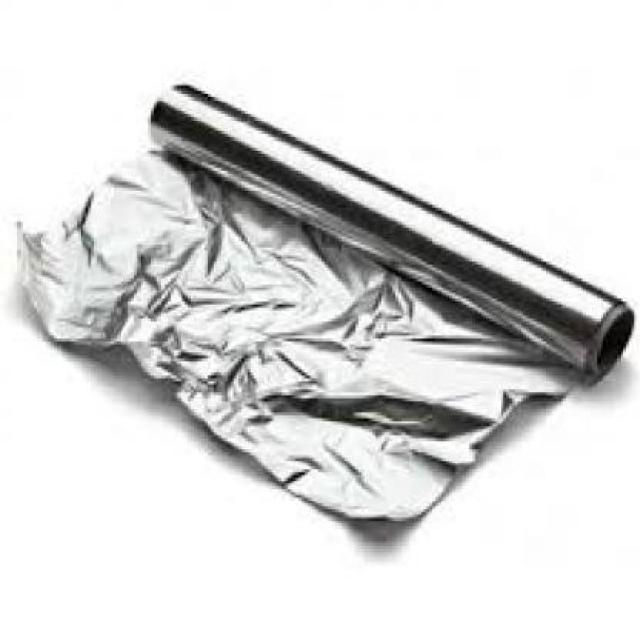METAL: (14, 79, 632, 524)
